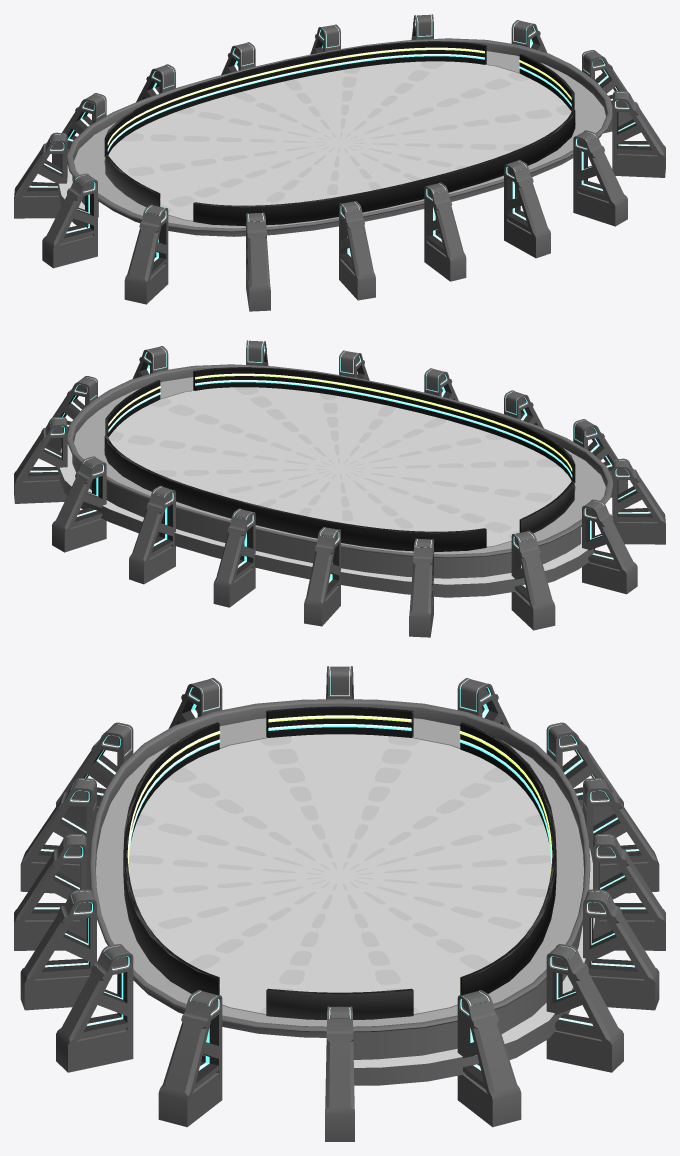
The model's file is PH_mesh_RooftopArena_Wall3.fbx.
3 views of the same model, one above another, from view 1: azimuth 30°, elevation 25°; view 2: azimuth 150°, elevation 25°; view 3: azimuth 270°, elevation 25° (orthographic). The views are drawn at different scales.
Parts seen in each view (by area): view 1: mesh_floorStructure, Cube.003, mesh_RTA_floor.003, mesh_wallSpline_Top, mesh_wallSpline_Coll_Bot, mesh_wallSpline_Right, mesh_wallSpline_Coll_Left, mesh_wallSpline_Bottom; view 2: mesh_floorStructure, Cube.003, mesh_RTA_floor.003, mesh_wallSpline_Bottom, mesh_wallSpline_Coll_Top, mesh_wallSpline_Right, mesh_wallSpline_Coll_Left, mesh_wallSpline_Top; view 3: mesh_floorStructure, Cube.003, mesh_RTA_floor.003, mesh_wallSpline_Left, mesh_wallSpline_Coll_Right, mesh_wallSpline_Top, mesh_wallSpline_Bottom, mesh_wallSpline_Coll_Bot, mesh_wallSpline_Coll_Top.
Boxes of the visible parts, left/top/right/bottom form: mesh_floorStructure: left=58, top=38, right=612, bottom=236; Cube.003: left=14, top=14, right=665, bottom=311; mesh_RTA_floor.003: left=121, top=61, right=571, bottom=212; mesh_wallSpline_Top: left=104, top=41, right=486, bottom=156; mesh_wallSpline_Coll_Bot: left=193, top=110, right=575, bottom=226; mesh_wallSpline_Right: left=519, top=54, right=574, bottom=110; mesh_wallSpline_Coll_Left: left=105, top=155, right=158, bottom=207; mesh_wallSpline_Bottom: left=194, top=110, right=574, bottom=206; mesh_floorStructure: left=58, top=364, right=612, bottom=597; Cube.003: left=14, top=340, right=665, bottom=637; mesh_RTA_floor.003: left=108, top=387, right=558, bottom=538; mesh_wallSpline_Bottom: left=193, top=367, right=575, bottom=482; mesh_wallSpline_Coll_Top: left=104, top=436, right=486, bottom=552; mesh_wallSpline_Right: left=106, top=380, right=160, bottom=436; mesh_wallSpline_Coll_Left: left=519, top=481, right=574, bottom=533; mesh_wallSpline_Top: left=106, top=438, right=485, bottom=532; mesh_floorStructure: left=89, top=699, right=595, bottom=1085; Cube.003: left=14, top=666, right=665, bottom=1141; mesh_RTA_floor.003: left=129, top=736, right=550, bottom=1013; mesh_wallSpline_Left: left=266, top=706, right=413, bottom=737; mesh_wallSpline_Coll_Right: left=266, top=989, right=413, bottom=1019; mesh_wallSpline_Top: left=459, top=722, right=556, bottom=995; mesh_wallSpline_Bottom: left=123, top=722, right=220, bottom=995; mesh_wallSpline_Coll_Bot: left=123, top=725, right=219, bottom=994; mesh_wallSpline_Coll_Top: left=460, top=723, right=556, bottom=994.
Size of what is drawn, in the model's own units: 78.56 by 9.93 by 55.13.
